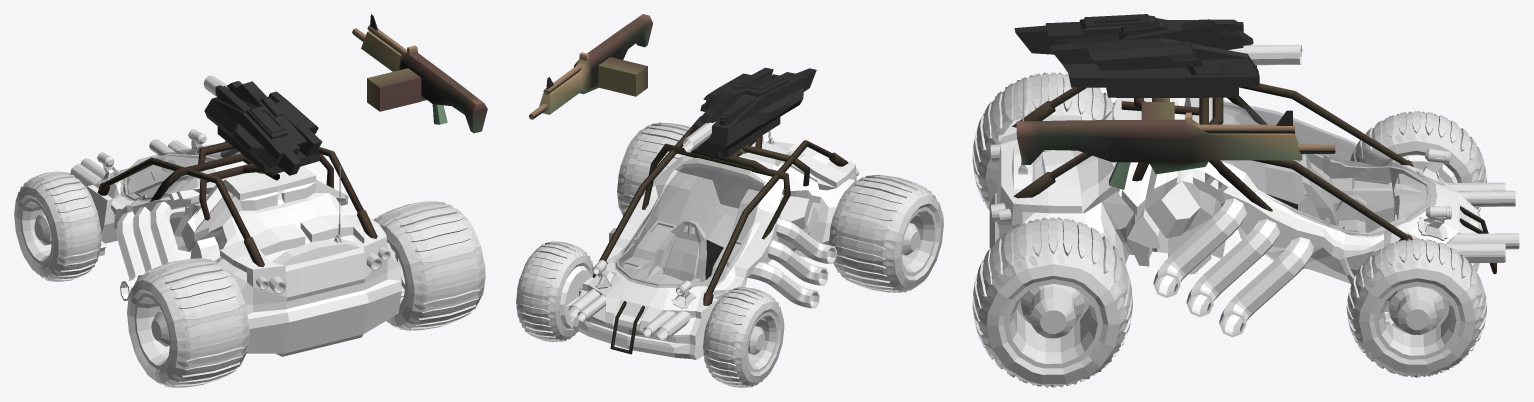
The model's file is caca.fbx.
3 views of the same model, side by side, from view 1: azimuth 30°, elevation 25°; view 2: azimuth 150°, elevation 25°; view 3: azimuth 270°, elevation 25° (orthographic). The views are drawn at different scales.
Visible parts, largest first — view 1: polySurface2, polySurface268, polySurface107, polySurface89, polySurface559, polySurface365, polySurface152, Car_Glas_Mesh, polySurface105, polySurface103, polySurface104, polySurface148 (+6 smaller); view 2: polySurface2, Car_Glas_Mesh, polySurface268, polySurface107, polySurface89, polySurface365, polySurface152, polySurface462, polySurface103, polySurface559, polySurface148, polySurface105 (+10 smaller); view 3: polySurface2, polySurface559, polySurface107, polySurface89, polySurface462, Car_Glas_Mesh, polySurface152, polySurface157, polySurface365, polySurface155, polySurface156, polySurface268 (+8 smaller).
Boxes of the visible parts, x1=… form: polySurface2: x1=87, y1=153, x2=401, y2=356; polySurface268: x1=127, y1=261, x2=249, y2=386; polySurface107: x1=203, y1=75, x2=322, y2=175; polySurface89: x1=352, y1=14, x2=487, y2=133; polySurface559: x1=375, y1=204, x2=485, y2=329; polySurface365: x1=14, y1=176, x2=101, y2=280; polySurface152: x1=97, y1=147, x2=377, y2=267; Car_Glas_Mesh: x1=120, y1=145, x2=240, y2=200; polySurface105: x1=150, y1=201, x2=184, y2=264; polySurface103: x1=117, y1=211, x2=145, y2=300; polySurface104: x1=133, y1=207, x2=161, y2=279; polySurface148: x1=150, y1=153, x2=245, y2=201; polySurface2: x1=573, y1=137, x2=856, y2=360; Car_Glas_Mesh: x1=615, y1=167, x2=762, y2=287; polySurface268: x1=829, y1=177, x2=943, y2=290; polySurface107: x1=683, y1=67, x2=816, y2=157; polySurface89: x1=529, y1=14, x2=652, y2=119; polySurface365: x1=703, y1=291, x2=784, y2=386; polySurface152: x1=592, y1=116, x2=848, y2=305; polySurface462: x1=516, y1=245, x2=593, y2=339; polySurface103: x1=747, y1=262, x2=819, y2=308; polySurface559: x1=617, y1=125, x2=686, y2=215; polySurface148: x1=642, y1=143, x2=790, y2=239; polySurface105: x1=776, y1=217, x2=836, y2=263; polySurface2: x1=989, y1=97, x2=1482, y2=283; polySurface559: x1=974, y1=219, x2=1129, y2=385; polySurface107: x1=1014, y1=14, x2=1302, y2=97; polySurface89: x1=1016, y1=102, x2=1335, y2=189; polySurface462: x1=1348, y1=240, x2=1484, y2=375; Car_Glas_Mesh: x1=1221, y1=102, x2=1436, y2=236; polySurface152: x1=1012, y1=83, x2=1413, y2=241; polySurface157: x1=1219, y1=237, x2=1313, y2=337; polySurface365: x1=1355, y1=112, x2=1484, y2=209; polySurface155: x1=1153, y1=198, x2=1246, y2=297; polySurface156: x1=1186, y1=219, x2=1279, y2=317; polySurface268: x1=974, y1=74, x2=1113, y2=204.
Bounding box in the file's own units: 161 × 110 × 184.
Materials: 9 (1 with a texture image).
